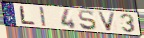3: (119, 13, 136, 33)
4: (61, 8, 77, 30)
I: (38, 6, 47, 27)
L: (19, 6, 36, 26)
S: (77, 9, 98, 31)
V: (96, 11, 117, 32)
